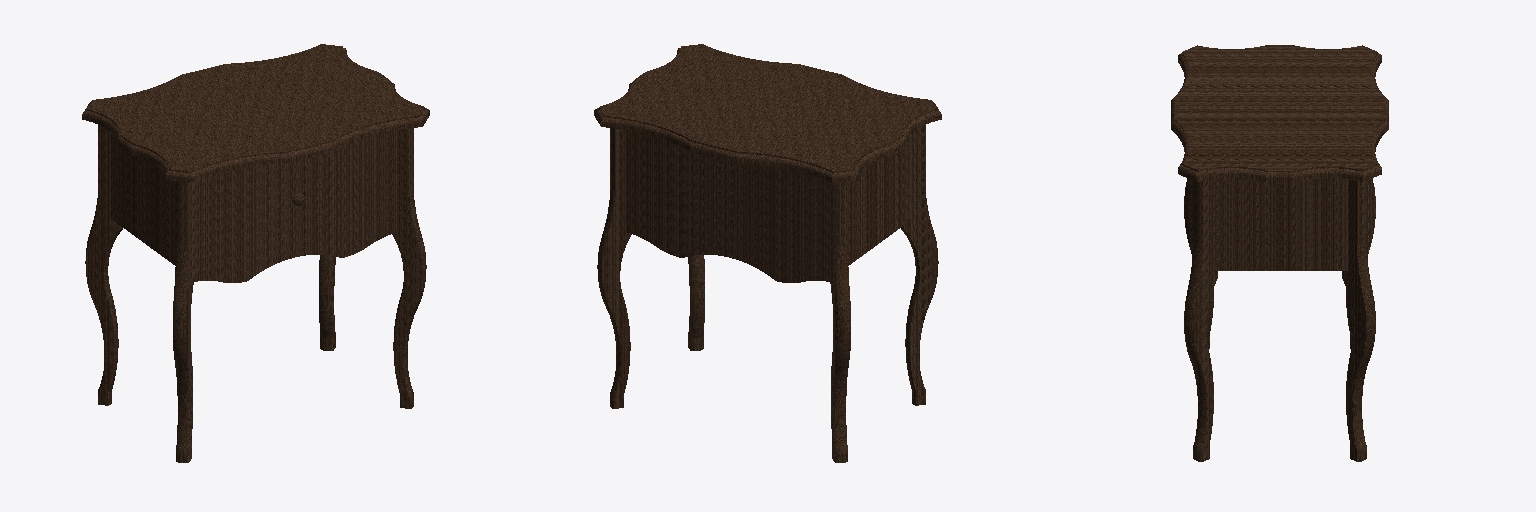
The picture shows the model from 3 angles: view 1: azimuth 30°, elevation 25°; view 2: azimuth 150°, elevation 25°; view 3: azimuth 270°, elevation 25°; orthographic projection.
Visible parts, largest first — view 1: pasted__GFBXASC045ObjectFBXASC046001 pasted__GFBXASC045Object gr; view 2: pasted__GFBXASC045ObjectFBXASC046001 pasted__GFBXASC045Object gr; view 3: pasted__GFBXASC045ObjectFBXASC046001 pasted__GFBXASC045Object gr.
Boxes of the visible parts, x1,y1,x2,y2 form: pasted__GFBXASC045ObjectFBXASC046001 pasted__GFBXASC045Object gr: [82, 44, 429, 462]; pasted__GFBXASC045ObjectFBXASC046001 pasted__GFBXASC045Object gr: [594, 44, 941, 462]; pasted__GFBXASC045ObjectFBXASC046001 pasted__GFBXASC045Object gr: [1171, 45, 1388, 461].
Size of the model in its own units: 1.06 by 1.14 by 0.76.
1 materials, 1 textured.